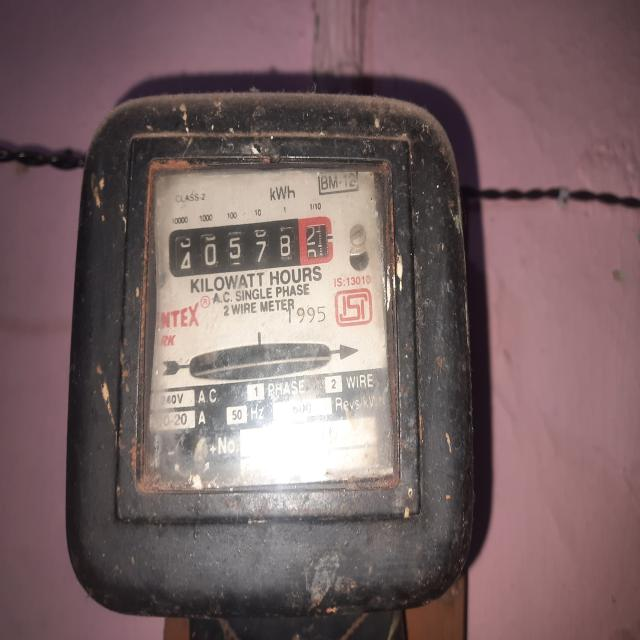display: (156, 216, 336, 276)
